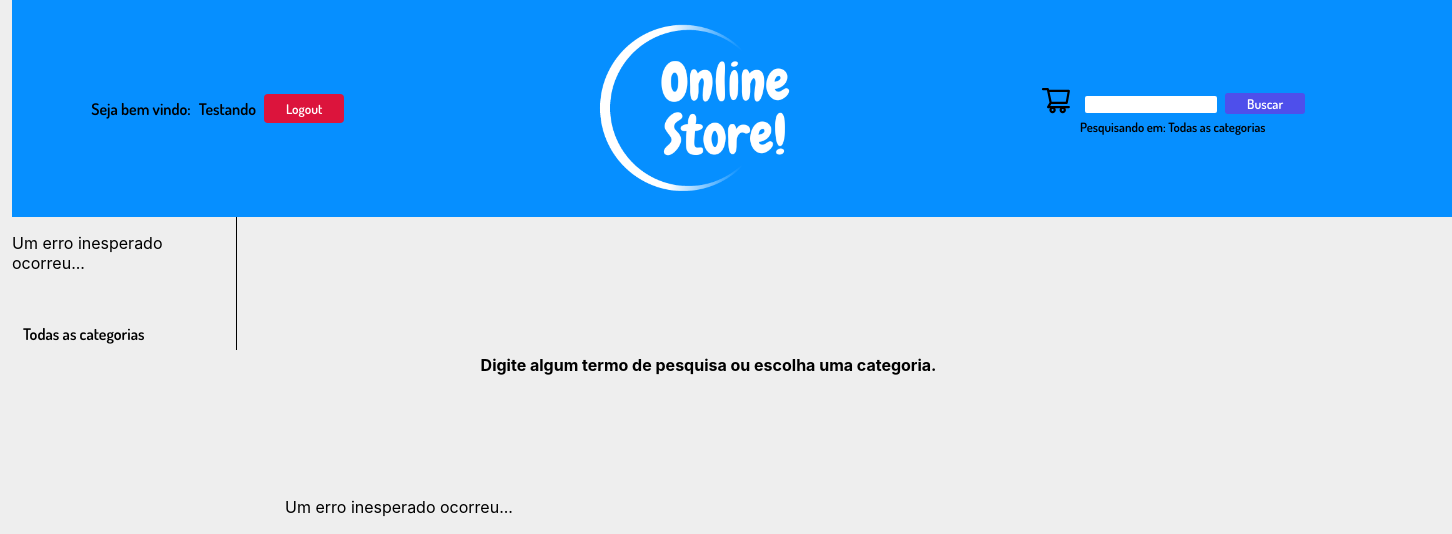
Testes do Header › Testa se o usuário já estiver logado, consegue fazer logout
Click the button with aria-label "logoutBtn" at (304, 109), box x1=264 y1=94 x2=344 y2=123
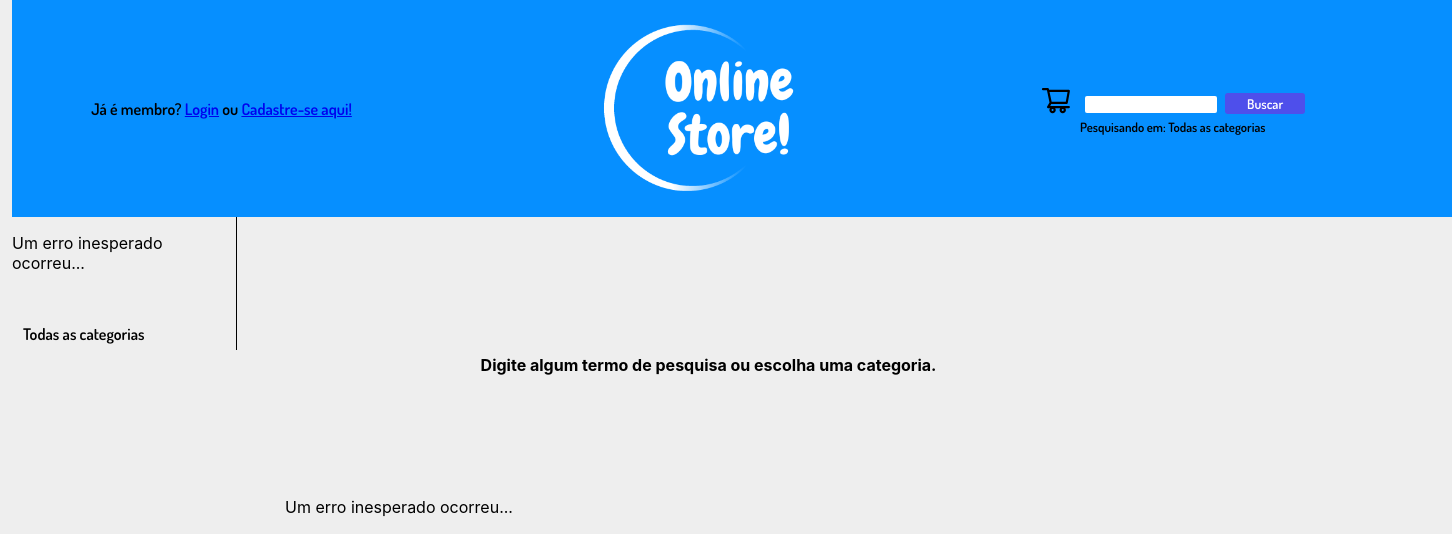
Expected: the link with aria-label "signUpBtn" is shown, x1=241 y1=99 x2=352 y2=119
